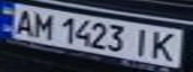1: (54, 15, 75, 44)
2: (87, 20, 109, 52)
3: (106, 22, 130, 54)
4: (72, 17, 93, 47)
A: (9, 7, 39, 36)
I: (127, 26, 157, 57)
K: (148, 29, 184, 63)
M: (30, 10, 57, 40)
